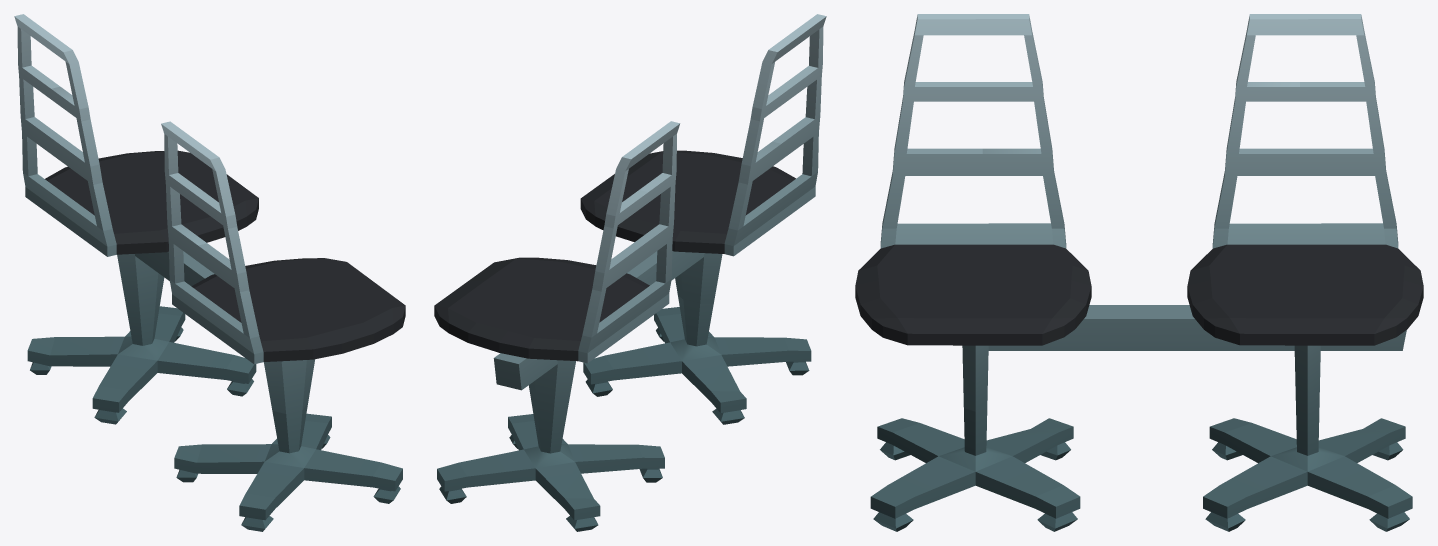
File: Chair_Broken.fbx
3 views of the same model, side by side, from view 1: azimuth 30°, elevation 25°; view 2: azimuth 150°, elevation 25°; view 3: azimuth 270°, elevation 25° (orthographic). The views are drawn at different scales.
Visible parts, largest first — view 1: chairs.002, chairs.005, chairs.006, chairs.003, chairs.004; view 2: chairs.002, chairs.005, chairs.006, chairs.003, chairs.004; view 3: chairs.002, chairs.005, chairs.006, chairs.003, chairs.004.
Part boxes in pixels (box(x1,y1,x2,y2)): chairs.002: box(20, 79, 258, 424); chairs.005: box(166, 197, 405, 413); chairs.006: box(174, 402, 402, 531); chairs.003: box(161, 121, 254, 318); chairs.004: box(14, 14, 82, 98); chairs.002: box(434, 148, 676, 531); chairs.005: box(580, 134, 818, 303); chairs.006: box(583, 295, 811, 424); chairs.003: box(747, 14, 826, 154); chairs.004: box(599, 121, 680, 253); chairs.002: box(1169, 51, 1423, 531); chairs.005: box(855, 115, 1174, 411); chairs.006: box(870, 404, 1080, 531); chairs.003: box(886, 14, 1046, 205); chairs.004: box(1242, 14, 1380, 131).
Size of the model in its own units: 172 by 320 by 391.
